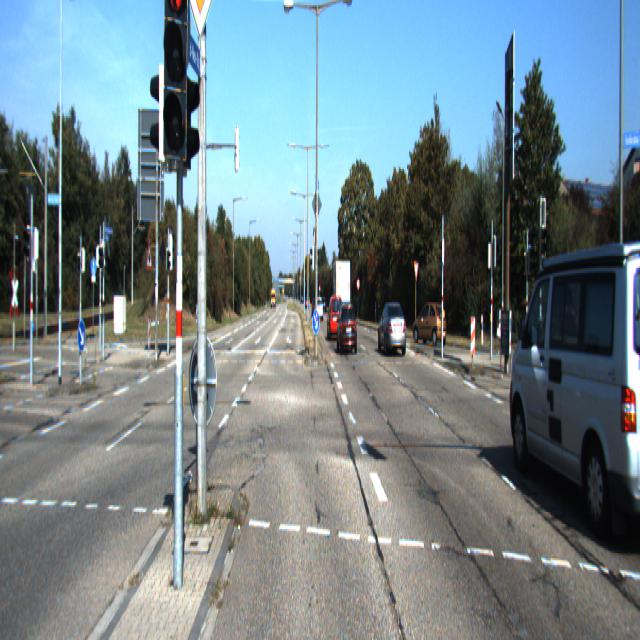Car: (507, 221, 640, 564), (377, 300, 407, 357), (413, 300, 447, 346), (332, 257, 351, 322), (337, 303, 358, 356), (327, 294, 343, 344)
